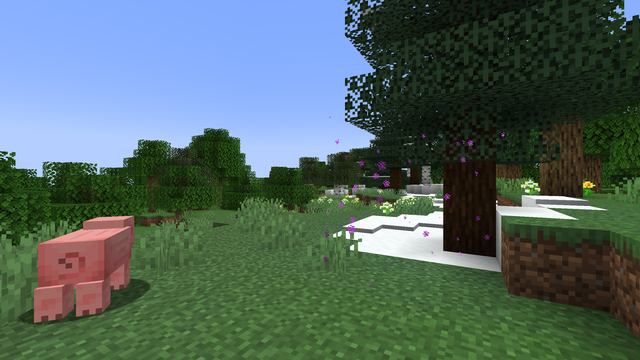cochons: (34, 224, 144, 321)
